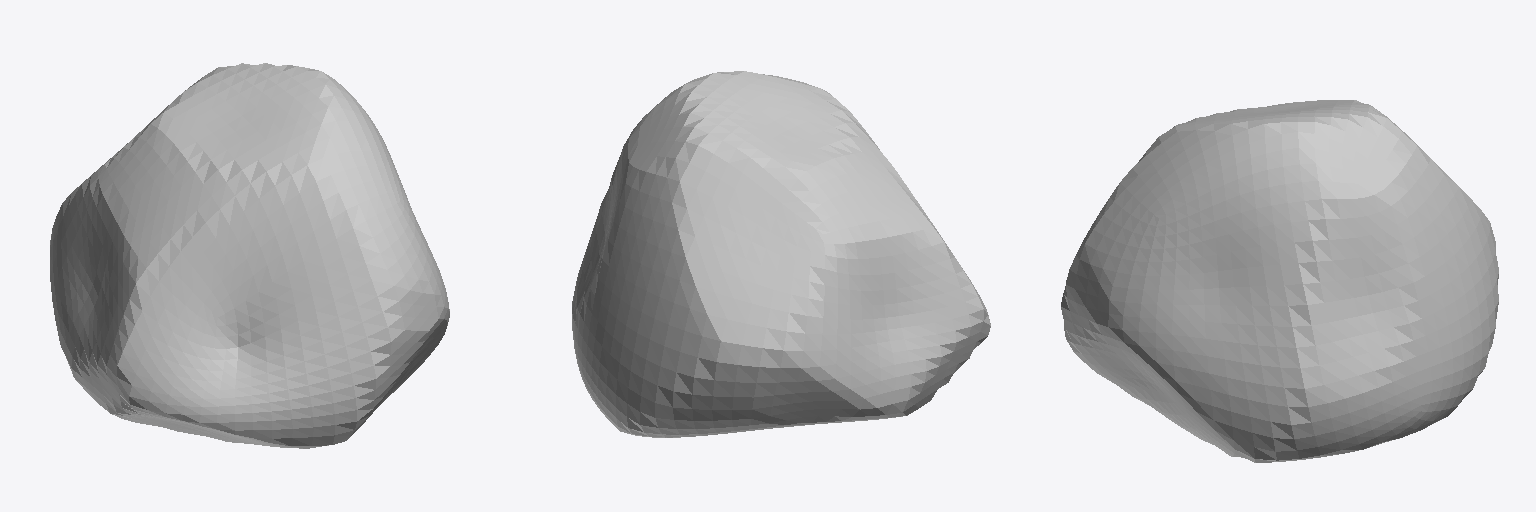
File: TheRock2.obj
The picture shows the model from 3 angles: view 1: azimuth 30°, elevation 25°; view 2: azimuth 150°, elevation 25°; view 3: azimuth 270°, elevation 25°; orthographic projection.
Visible parts, largest first — view 1: Cube.002; view 2: Cube.002; view 3: Cube.002.
Part boxes in pixels (left/top/right/bottom): Cube.002: left=50, top=63, right=449, bottom=448; Cube.002: left=572, top=71, right=990, bottom=437; Cube.002: left=1061, top=100, right=1498, bottom=462.
Size of the model in its own units: 0.4489 by 0.3951 by 0.4807.